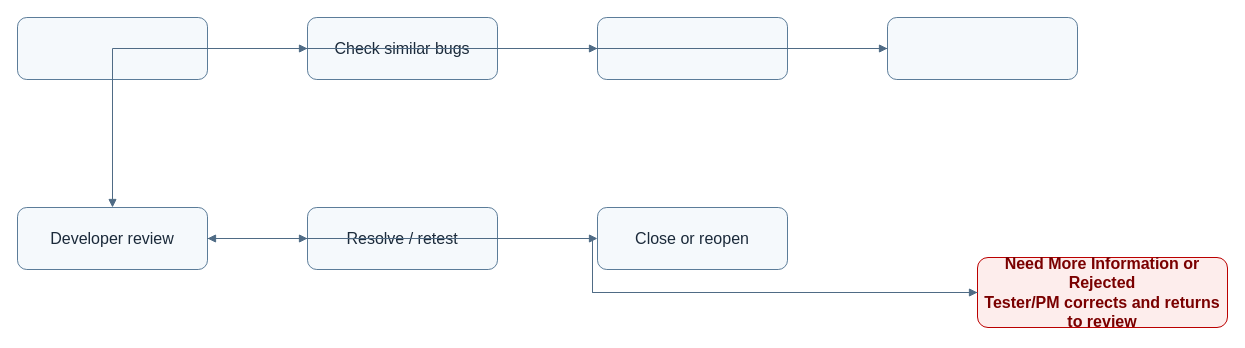
This 1245x348 diagram has some shape labels left out. Here are the shapes that lost their labels. From the top down, the centre of each, then its label:
(x=112, y=48): Detect defect
(x=692, y=48): Create and classify
(x=982, y=48): Assign or Pending Assignment
